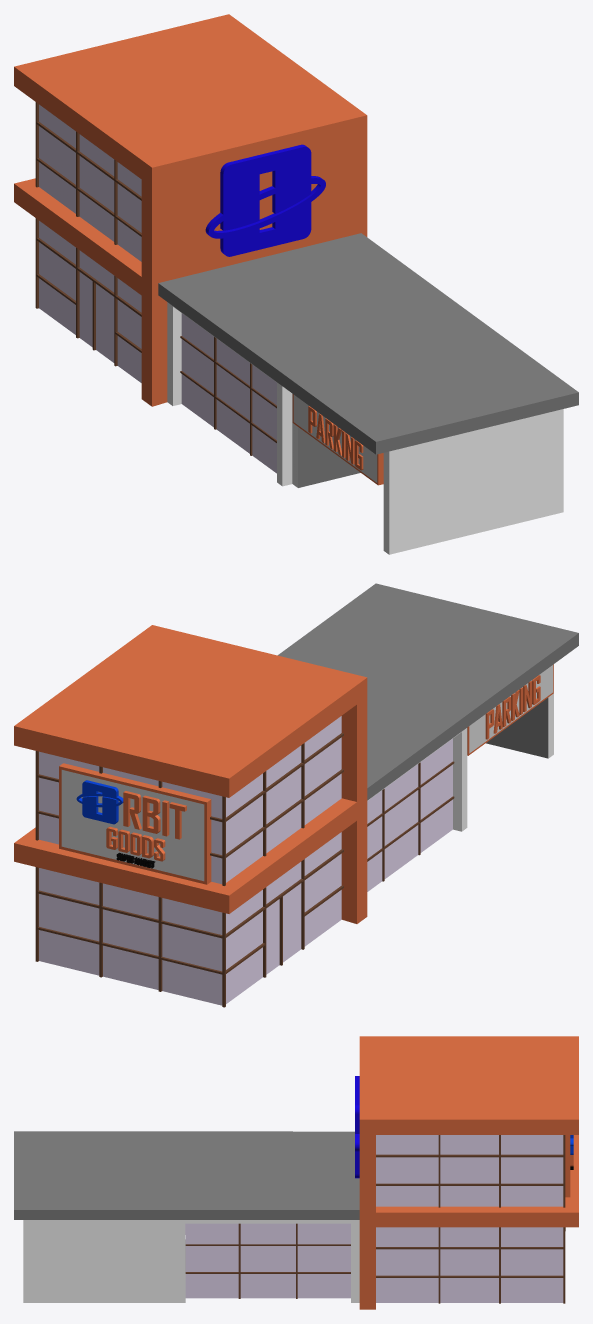
File: supermarket.fbx
3 views of the same model, one above another, from view 1: azimuth 30°, elevation 25°; view 2: azimuth 150°, elevation 25°; view 3: azimuth 270°, elevation 25° (orthographic). The views are drawn at different scales.
Visible parts, largest first — view 1: supermarket; view 2: supermarket; view 3: supermarket.
Part boxes in pixels (bbox=[...]): supermarket: bbox=[14, 14, 578, 554]; supermarket: bbox=[14, 583, 578, 1007]; supermarket: bbox=[14, 1036, 578, 1309].
Size of the model in its own units: 2908 by 3089 by 8332.
